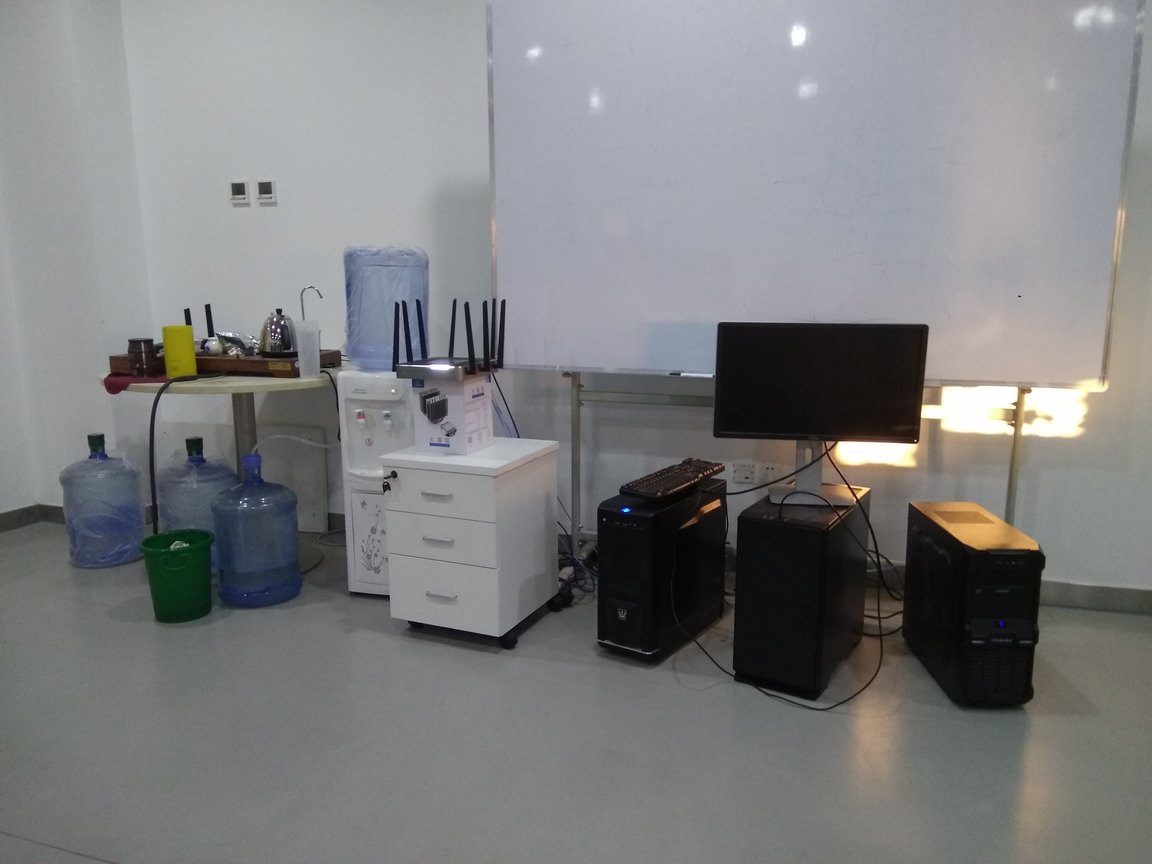computer: (902, 494, 1047, 717), (739, 475, 872, 713), (595, 472, 727, 672)
drawer chest: (378, 436, 556, 646)
monitor: (711, 318, 929, 509)
scuttlebutt: (211, 455, 307, 611), (334, 242, 437, 385), (61, 430, 155, 570), (162, 437, 247, 585)
water dispenser: (330, 361, 437, 600)
